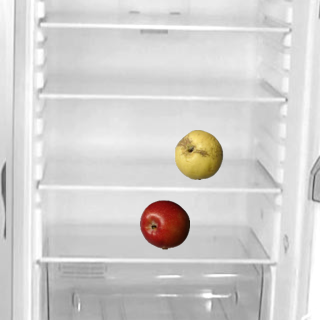Apple Braeburn: (139, 199, 189, 249)
Apple Golden 1: (173, 129, 223, 179)
